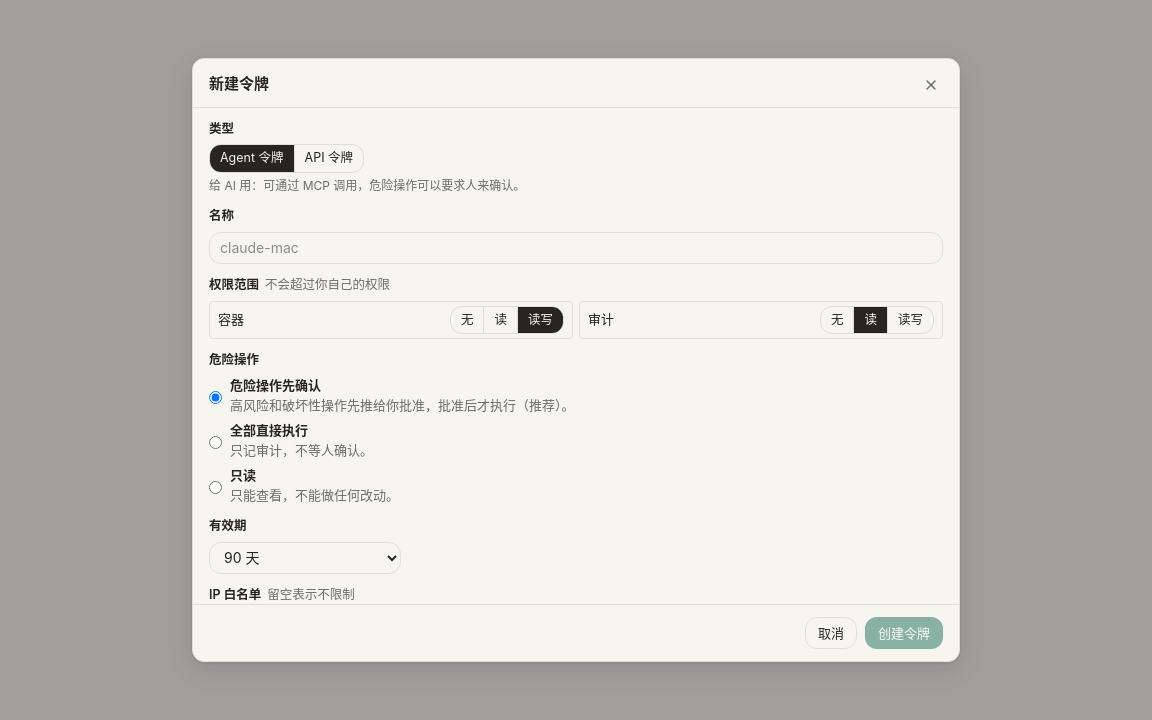
defaults Agent tokens to confirm-first, warns about never expiring, and posts scopes
Later steps or results of the test are not shown.
Expected: the radio button labelled "危险操作先确认 高风险和破坏性操作先推给你批准，批准后才执行（推荐）。" is checked, [209,380,222,415]
Select "永不过期" in the dropdown: (305, 558) [209,542,401,574]
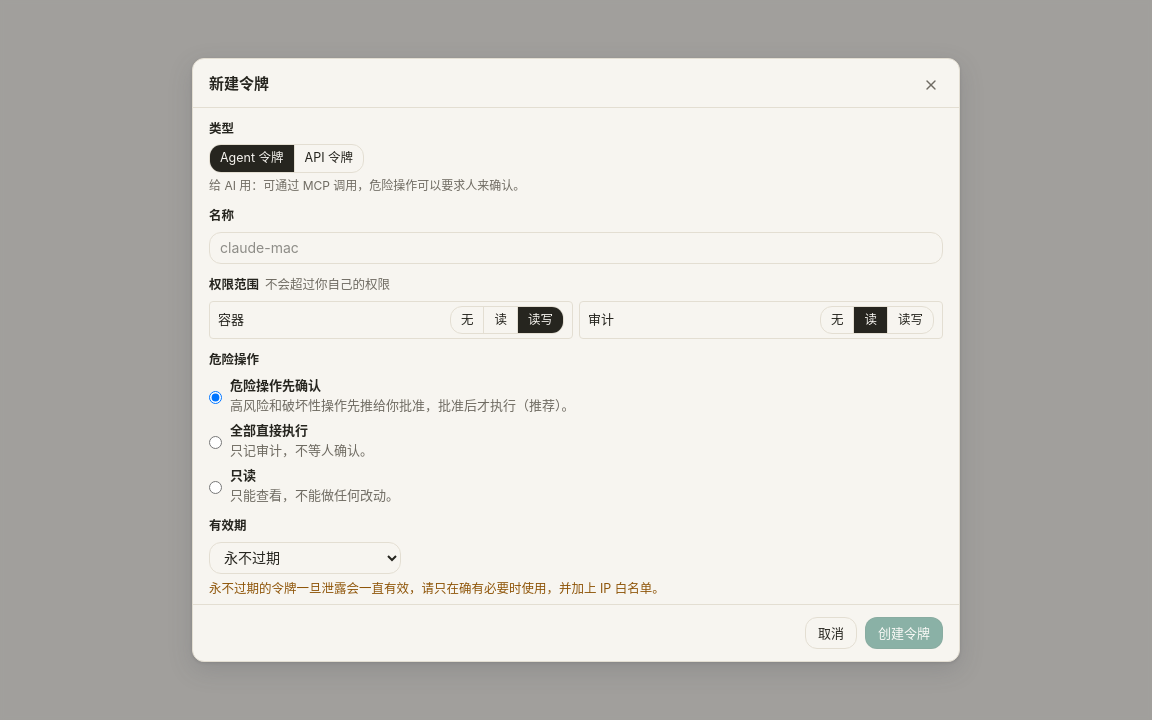
Expected: the text "永不过期的令牌一旦泄露会一直有效，请只在确有必要时使用，并加上 IP 白名单。" is shown, [209,581,665,596]
